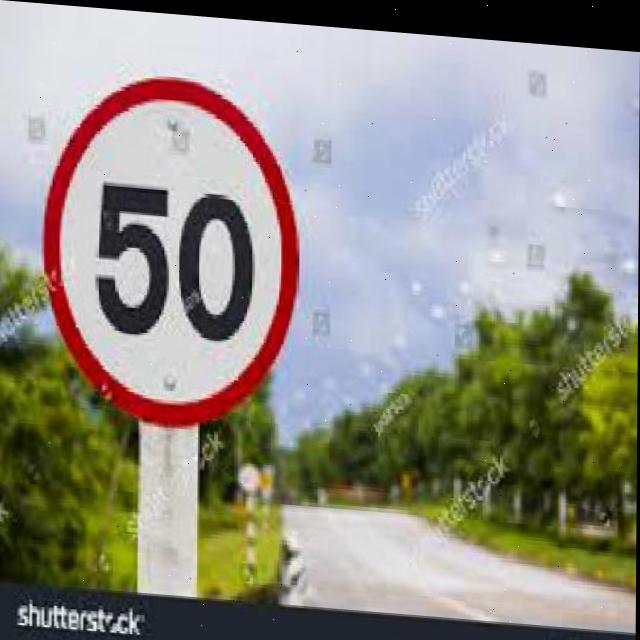Speed limit 50: (39, 62, 305, 436)
